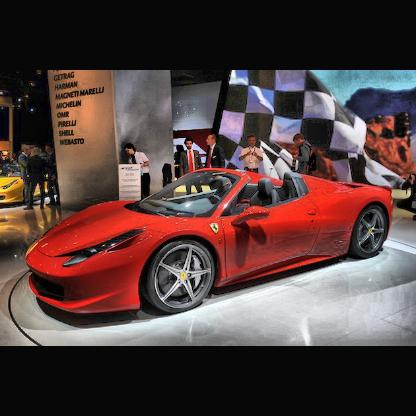Ferrari 458 Italia Convertible 2012: (24, 167, 394, 315)
